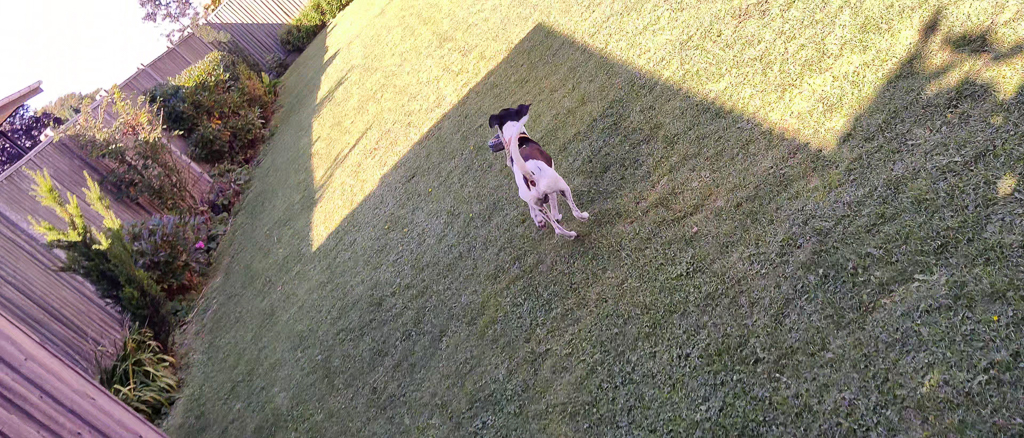Dog: (468, 95, 602, 254)
